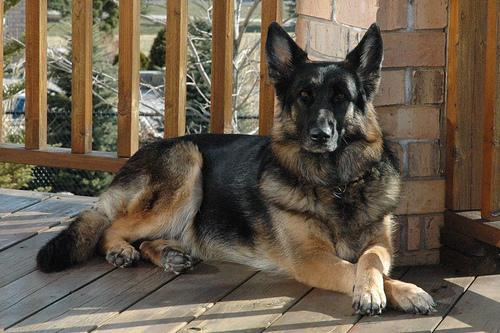German_shepherd: (36, 22, 438, 316)
